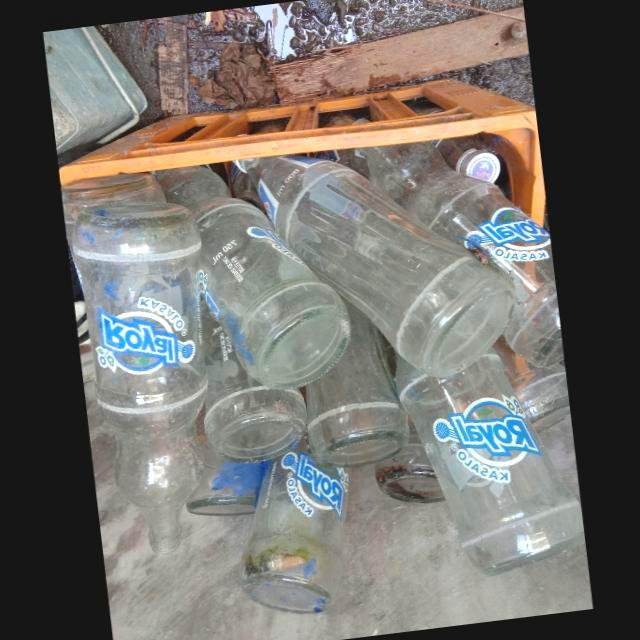glass_bottle: (233, 154, 516, 378), (71, 197, 208, 555), (360, 140, 565, 367), (157, 163, 352, 389), (395, 347, 586, 576), (240, 434, 349, 613), (306, 296, 410, 467), (202, 299, 307, 463)
